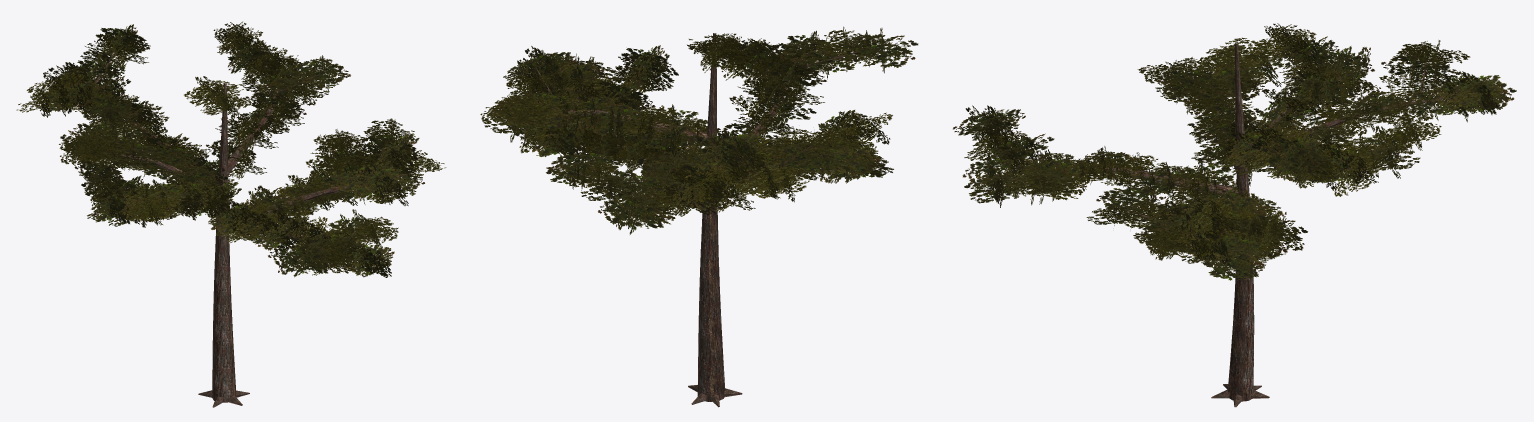
File: tree_3d_05_lod0.glb
3 renders of one model, left to right at view 1: azimuth 30°, elevation 25°; view 2: azimuth 150°, elevation 25°; view 3: azimuth 270°, elevation 25°, orthographic. The views are drawn at different scales.
Parts seen in each view (by area): view 1: foliage_cards, wood_geometry; view 2: foliage_cards, wood_geometry; view 3: foliage_cards, wood_geometry.
Boxes of the visible parts, <box> form: foliage_cards: <box>16,21,446,277</box>; wood_geometry: <box>53,46,410,407</box>; foliage_cards: <box>480,26,918,234</box>; wood_geometry: <box>531,33,869,407</box>; foliage_cards: <box>953,23,1516,280</box>; wood_geometry: <box>992,44,1443,407</box>.
Bounding box in the file's own units: 9.84 × 8.94 × 12.95.
Materials: 2 (2 with a texture image).
